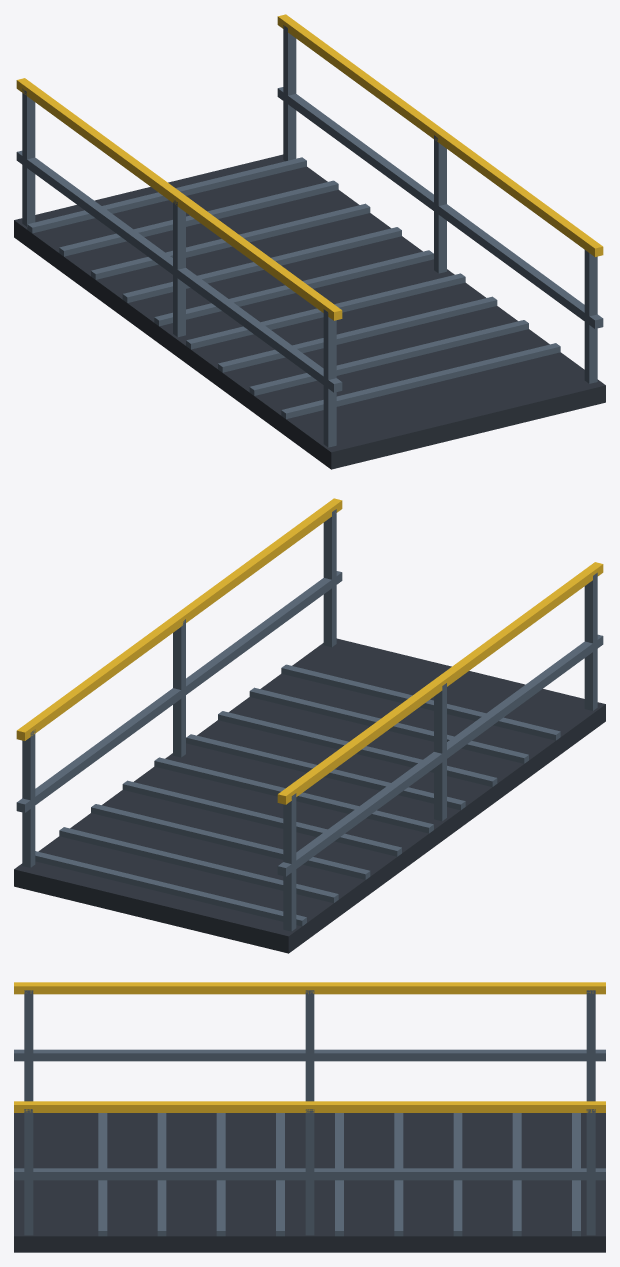
Rendered from interior_catwalk_straight.glb.
3 renders of one model, top to bottom at view 1: azimuth 30°, elevation 25°; view 2: azimuth 150°, elevation 25°; view 3: azimuth 270°, elevation 25°, orthographic. The views are drawn at different scales.
Visible parts, largest first — view 1: interior_catwalk_straight_steelDark, interior_catwalk_straight_steel, interior_catwalk_straight_yellow; view 2: interior_catwalk_straight_steelDark, interior_catwalk_straight_steel, interior_catwalk_straight_yellow; view 3: interior_catwalk_straight_steelDark, interior_catwalk_straight_steel, interior_catwalk_straight_yellow.
Part boxes in pixels (box(x1,y1,x2,y2)): interior_catwalk_straight_steelDark: box(14, 154, 605, 469); interior_catwalk_straight_steel: box(16, 25, 603, 447); interior_catwalk_straight_yellow: box(16, 14, 603, 320); interior_catwalk_straight_steelDark: box(14, 638, 605, 953); interior_catwalk_straight_steel: box(16, 509, 603, 931); interior_catwalk_straight_yellow: box(16, 498, 603, 804); interior_catwalk_straight_steelDark: box(14, 1113, 605, 1252); interior_catwalk_straight_steel: box(14, 990, 605, 1236); interior_catwalk_straight_yellow: box(14, 982, 605, 1112).
Size of the model in its own units: 2 by 1.09 by 4.
